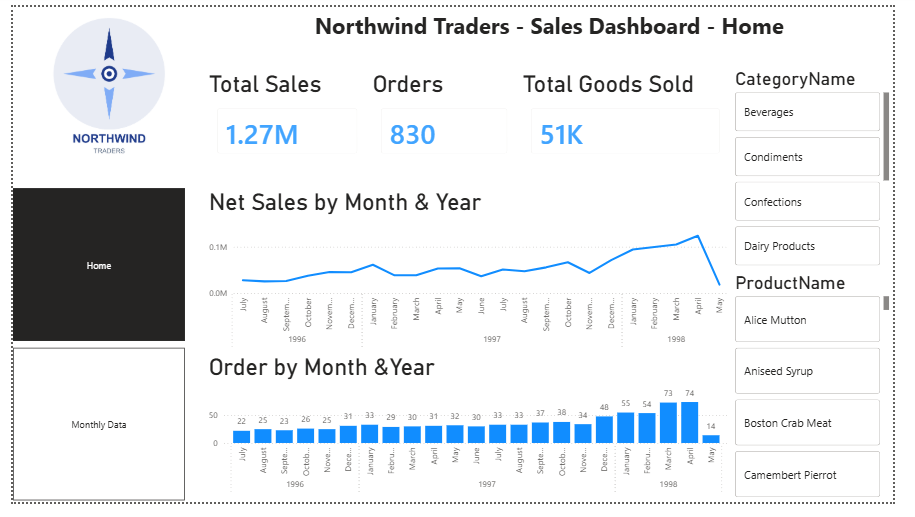

Layout of this report page (visuals, bound fields, positions):
{"tool":"powerbi","page":{"name":"Home","canvas":[1280,720],"ordinal":0},"visuals":[{"type":"textbox","box":[279.5,0,1000,92.3],"z":0},{"type":"cardVisual","title":"Orders","fields":{"Data":["Count(FactOrders.OrderID)"]},"box":[518.2,92.7,218.2,138.2],"z":1000},{"type":"cardVisual","title":"Total Goods Sold","fields":{"Data":["Sum(FactOrders.Quantity)"]},"box":[736.4,92.7,309.1,138.2],"z":2000},{"type":"cardVisual","title":"Total Sales","fields":{"Data":["Sum(FactOrders.NetPrice)"]},"box":[280,92.7,238.2,138.2],"z":3000},{"type":"image","box":[0,1.8,280,229.1],"z":4000},{"type":"lineChart","title":"Net Sales by Month & Year","fields":{"Y":["Sum(FactOrders.NetPrice)"],"Category":["DimDate.YYYY_Year Hierarchy.YYYY_Year","DimDate.YYYY_Year Hierarchy.Month_Name"]},"box":[280,263.6,765.5,241.8],"z":5000},{"type":"clusteredColumnChart","title":"Order by Month &Year","fields":{"Category":["DimDate.YYYY_Year Hierarchy.YYYY_Year","DimDate.YYYY_Year Hierarchy.Month_Name"],"Y":["Count(FactOrders.OrderID)"]},"box":[280,503.6,765.5,212.7],"z":6000},{"type":"advancedSlicerVisual","fields":{"Values":["DimProduct.CategoryName"]},"box":[1045.5,89.1,234.5,296.4],"z":7000},{"type":"advancedSlicerVisual","fields":{"Values":["DimProduct.ProductName"]},"box":[1045.5,385.5,234.5,332.7],"z":8000},{"type":"pageNavigator","box":[0,263.6,250.9,454.5],"z":8001}]}

Visuals, with their boxes in screenshot pixels (x1, y1, x2, y2), scaled from the page's 1280x720 canvas onto the 915x517 screenshot:
textbox: left=200, top=0, right=914, bottom=66
"Orders" cardVisual: left=370, top=67, right=526, bottom=166
"Total Goods Sold" cardVisual: left=526, top=67, right=747, bottom=166
"Total Sales" cardVisual: left=200, top=67, right=370, bottom=166
image: left=0, top=1, right=200, bottom=166
"Net Sales by Month & Year" lineChart: left=200, top=189, right=747, bottom=363
"Order by Month &Year" clusteredColumnChart: left=200, top=362, right=747, bottom=514
advancedSlicerVisual - DimProduct.CategoryName: left=747, top=64, right=914, bottom=277
advancedSlicerVisual - DimProduct.ProductName: left=747, top=277, right=914, bottom=516
pageNavigator: left=0, top=189, right=179, bottom=516
